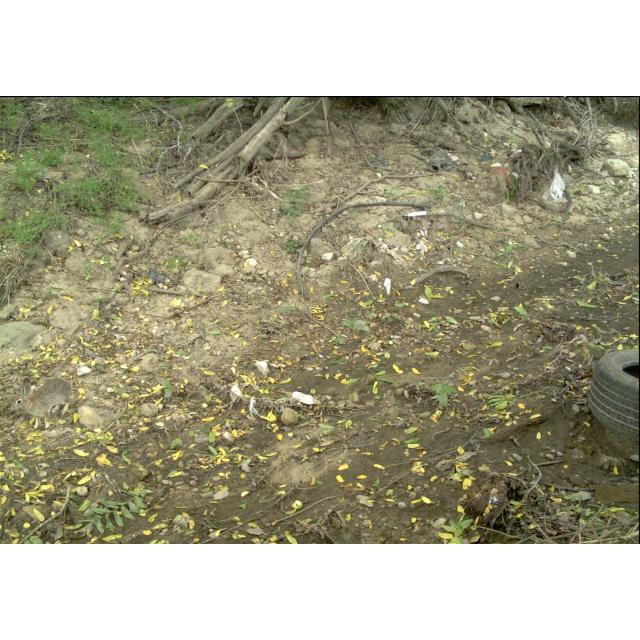animals: (14, 375, 76, 431)
